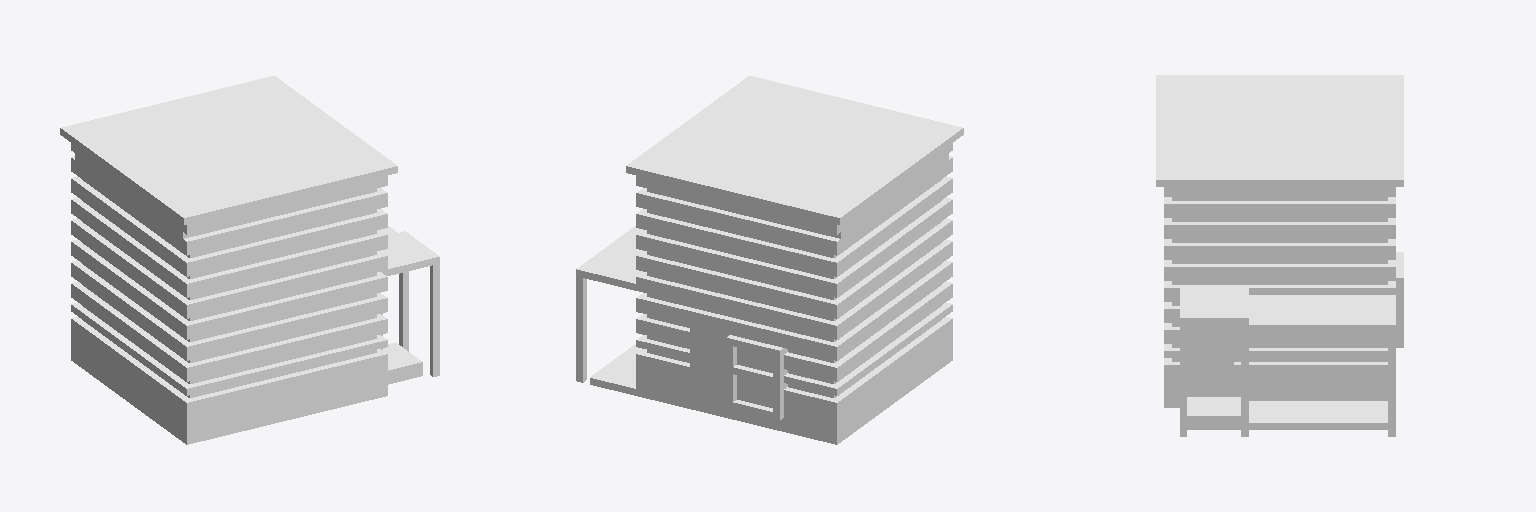
File: home_white.obj
The picture shows the model from 3 angles: view 1: azimuth 30°, elevation 25°; view 2: azimuth 150°, elevation 25°; view 3: azimuth 270°, elevation 25°; orthographic projection.
Visible parts, largest first — view 1: object 1; view 2: object 1; view 3: object 1.
Part boxes in pixels (x1,y1,x2,y2): object 1: (60,76,439,444); object 1: (576,76,963,444); object 1: (1156,75,1403,436).
Size of the model in its own units: 4 by 3.3 by 3.2.